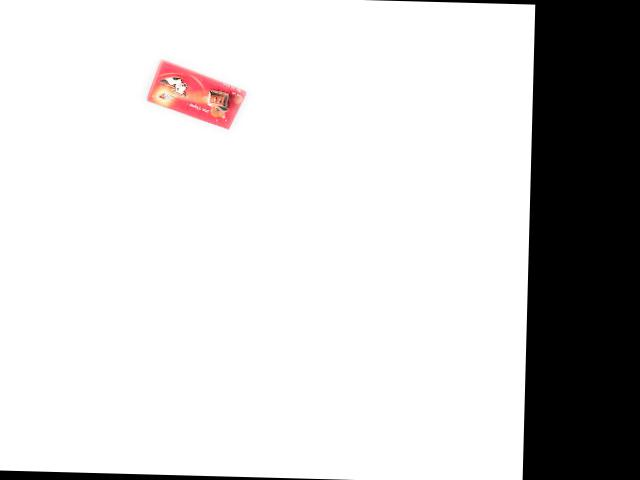chocolate: (147, 59, 248, 131)
